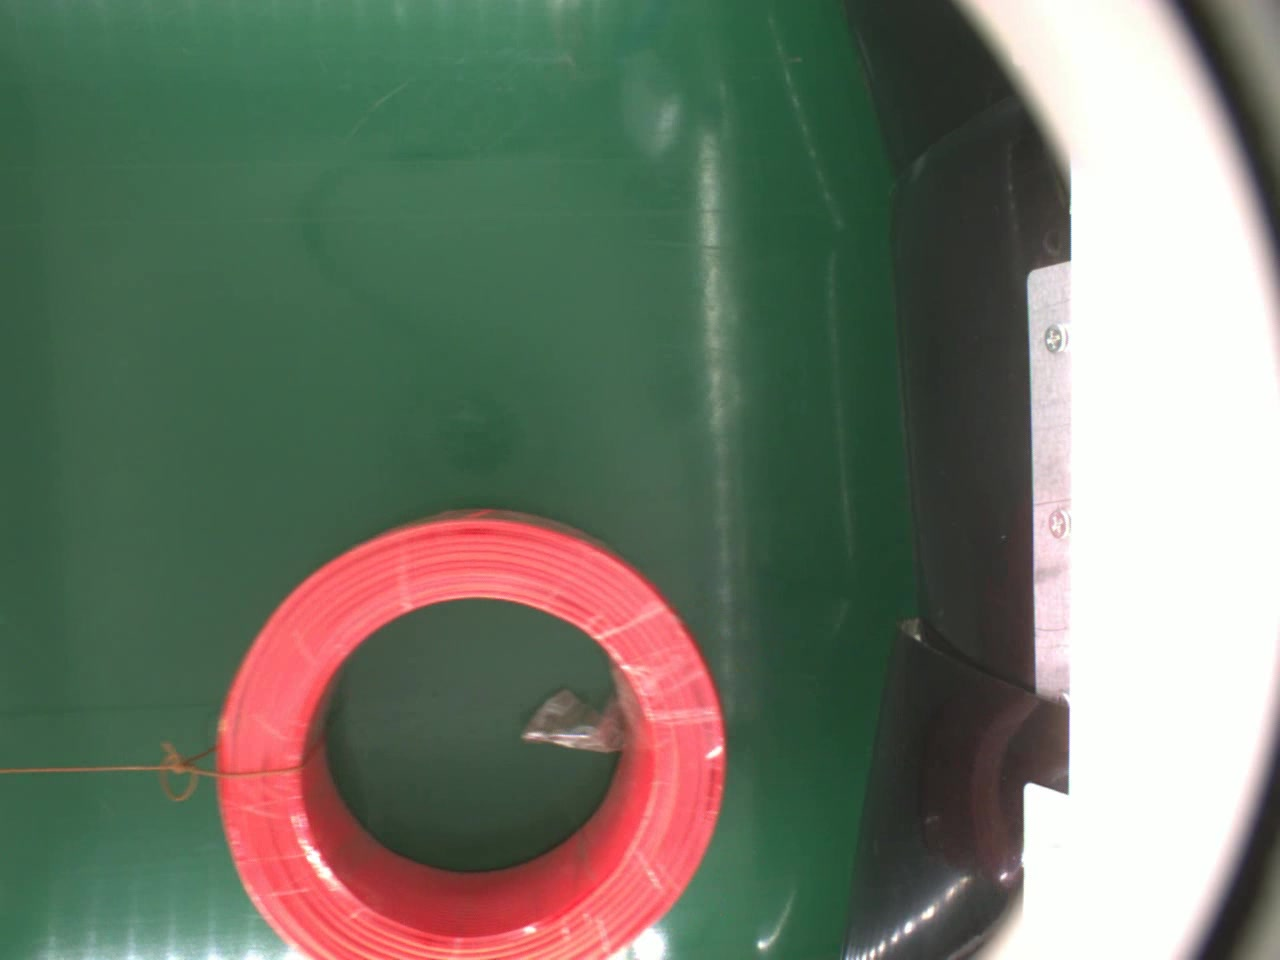red: (210, 503, 727, 960)
